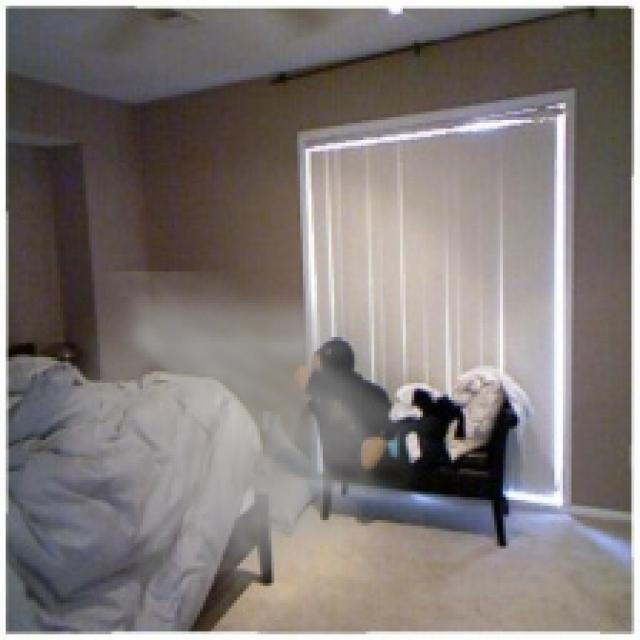Smoke: (31, 271, 443, 626)
